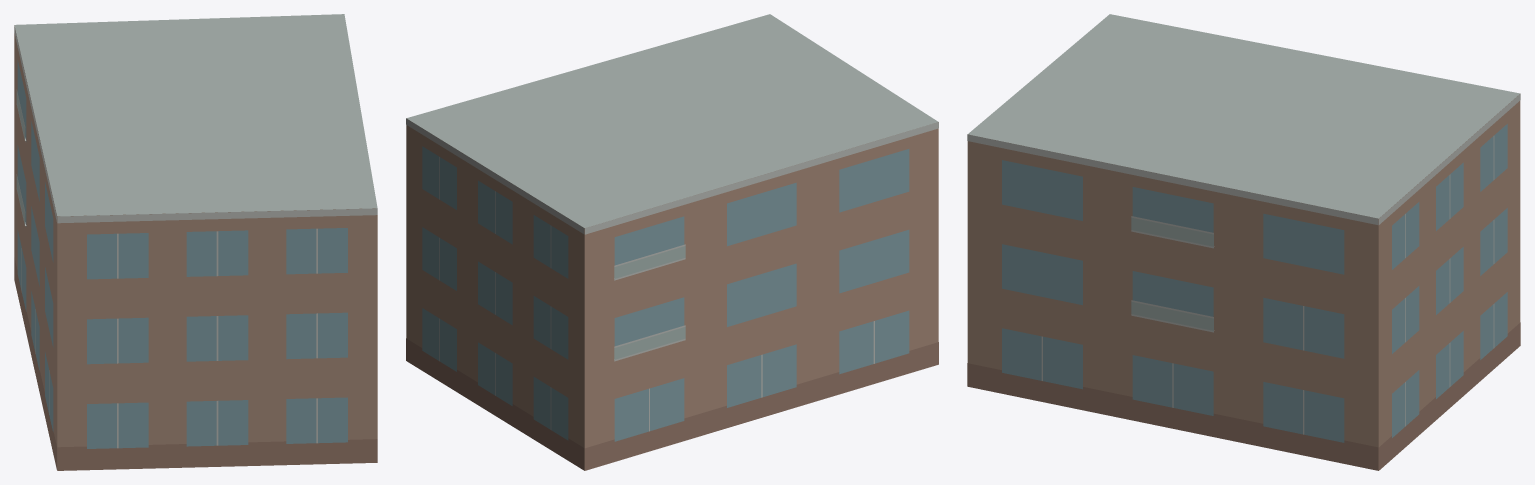
File: survey-upis-32922693.glb
The picture shows the model from 3 angles, left to right: view 1: azimuth 30°, elevation 25°; view 2: azimuth 150°, elevation 25°; view 3: azimuth 270°, elevation 25°; orthographic projection. The views are drawn at different scales.
Visible parts, largest first — view 1: survey-upis-32922693.tmp; view 2: survey-upis-32922693.tmp; view 3: survey-upis-32922693.tmp.
Part boxes in pixels (x1,y1,x2,y2): survey-upis-32922693.tmp: [14, 14, 377, 470]; survey-upis-32922693.tmp: [406, 14, 938, 470]; survey-upis-32922693.tmp: [967, 14, 1520, 470].
Size of the model in its own units: 15.92 by 9.15 by 18.19.
